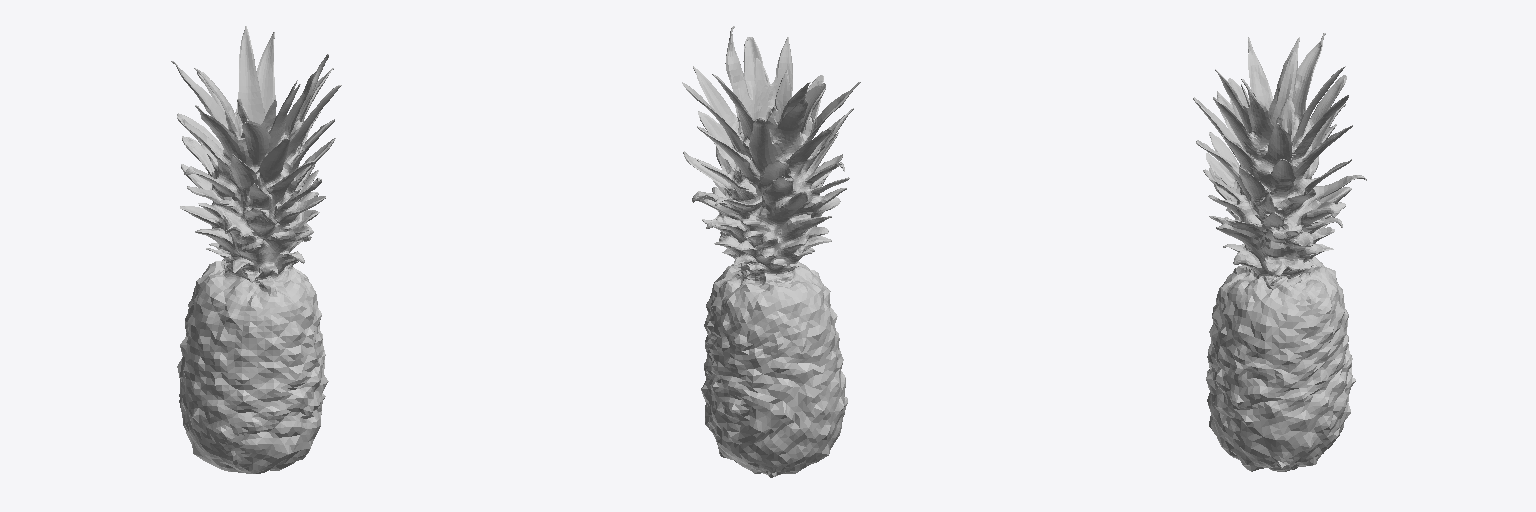
3 views of the same model, side by side, from view 1: azimuth 30°, elevation 25°; view 2: azimuth 150°, elevation 25°; view 3: azimuth 270°, elevation 25° (orthographic).
Visible parts, largest first — view 1: Object_TexMap; view 2: Object_TexMap; view 3: Object_TexMap.
Boxes of the visible parts, x1=… form: Object_TexMap: x1=171, y1=26, x2=341, y2=473; Object_TexMap: x1=682, y1=26, x2=860, y2=477; Object_TexMap: x1=1193, y1=33, x2=1366, y2=471.
Size of the model in its own units: 0.9912 by 2.5 by 0.9654.